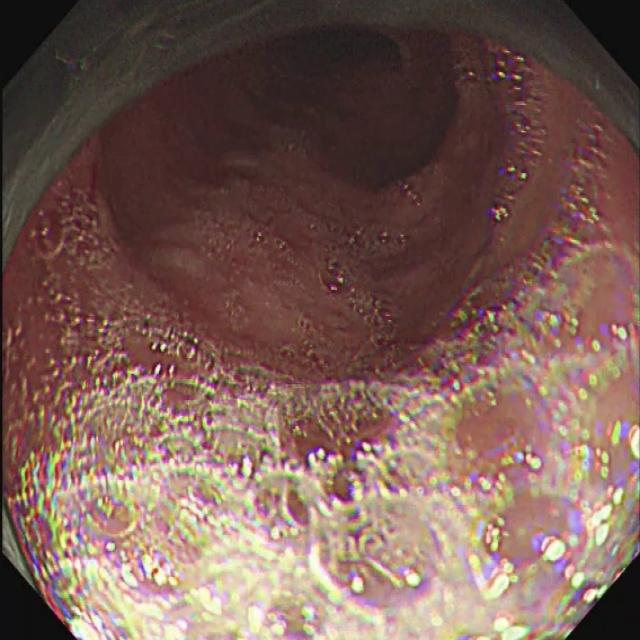E: (108, 28, 462, 222)
T: (5, 271, 640, 640), (542, 118, 618, 274), (488, 47, 547, 224), (31, 176, 121, 275), (198, 220, 296, 272), (340, 228, 411, 259)
